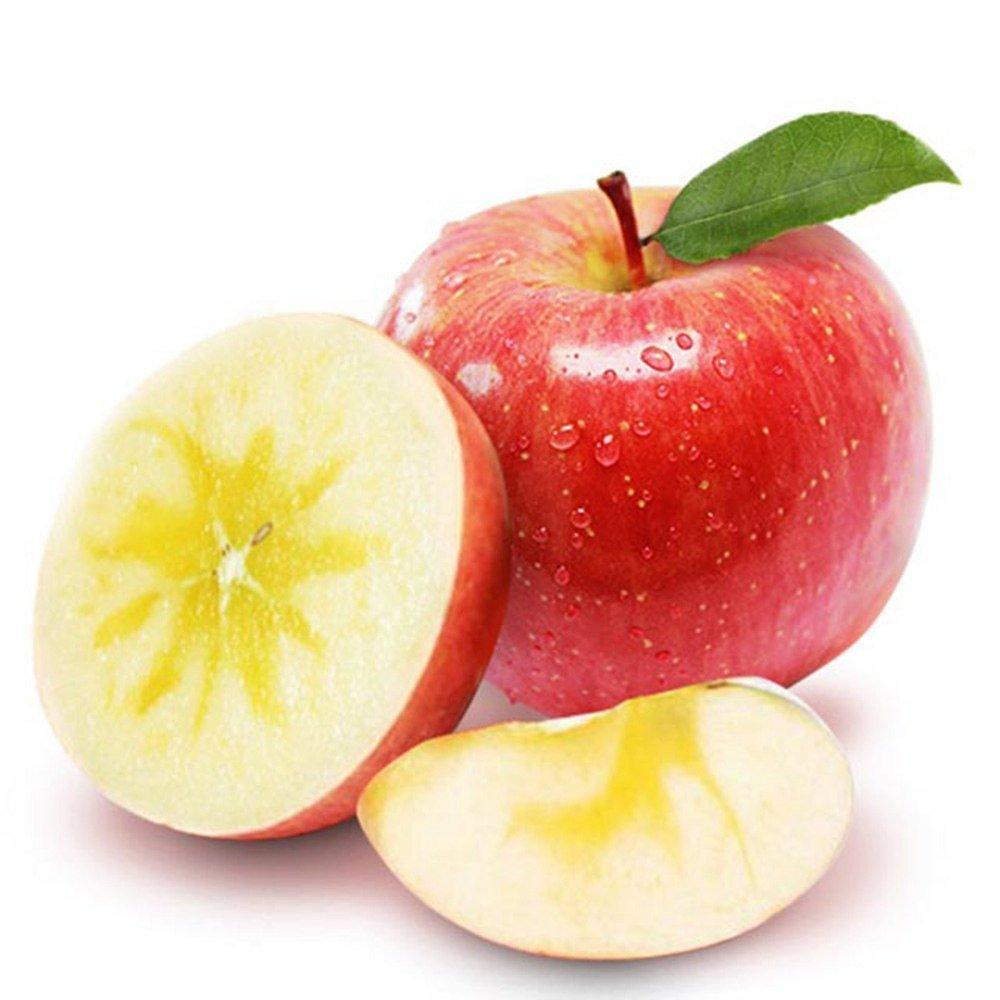apple: (358, 168, 934, 717)
